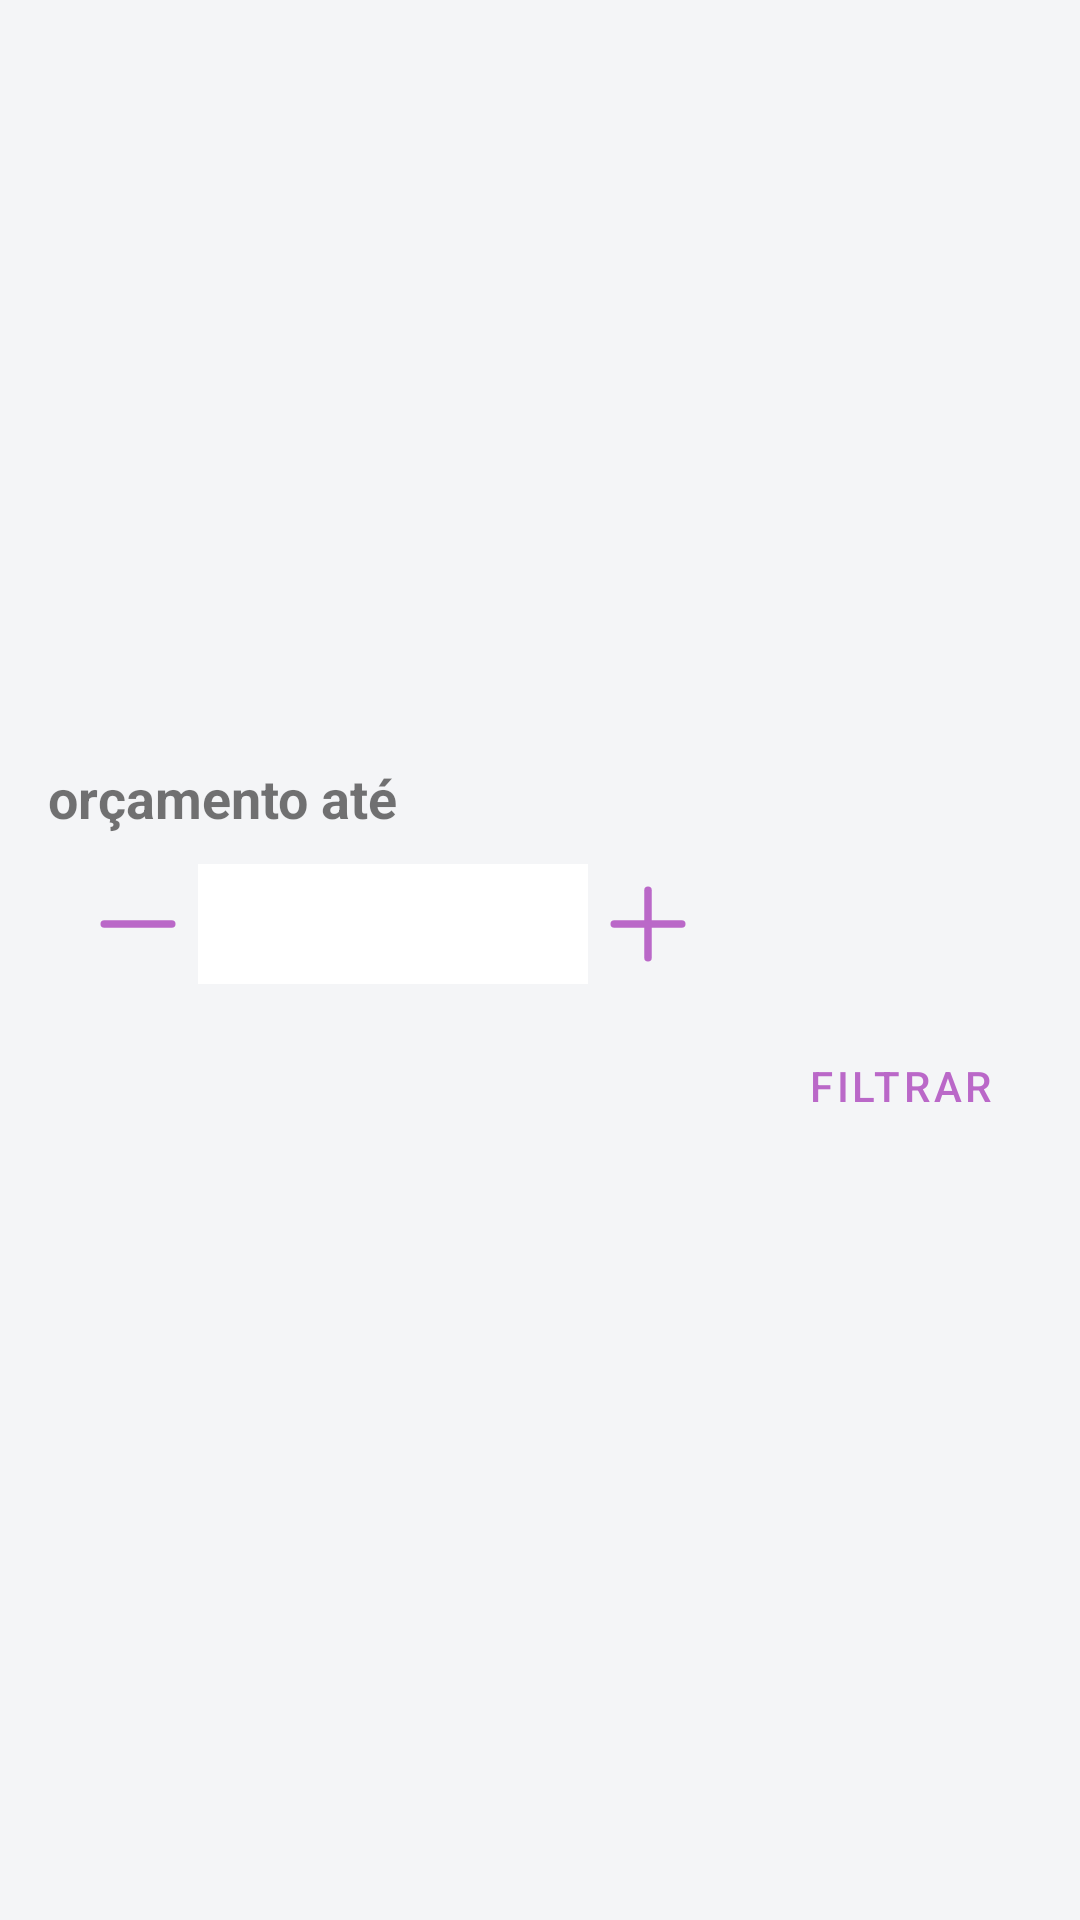

Icons on this 1080w x 1920h Android screen, each with the point to tap as (x,y):
add: (648,924)
